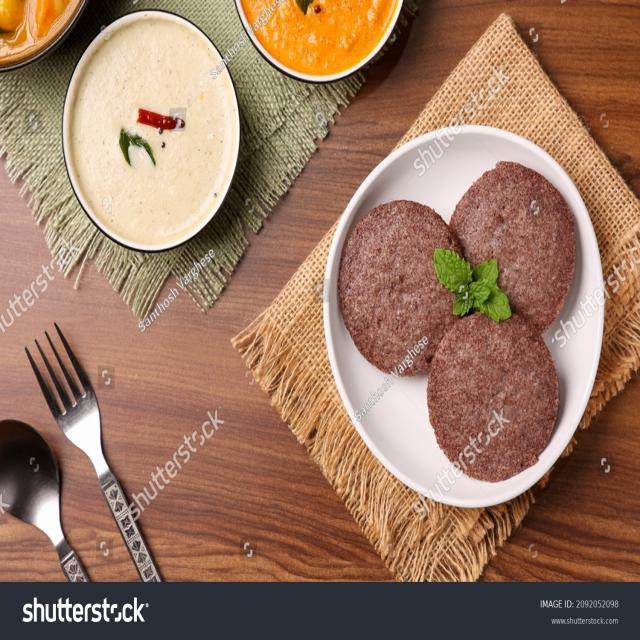IDLI: (427, 302, 559, 480), (341, 197, 466, 371), (451, 166, 574, 327)
